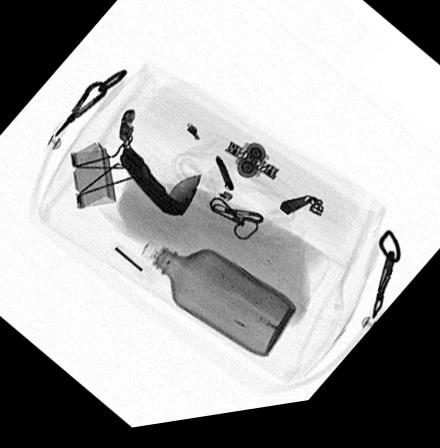Knife: (116, 148, 203, 222)
